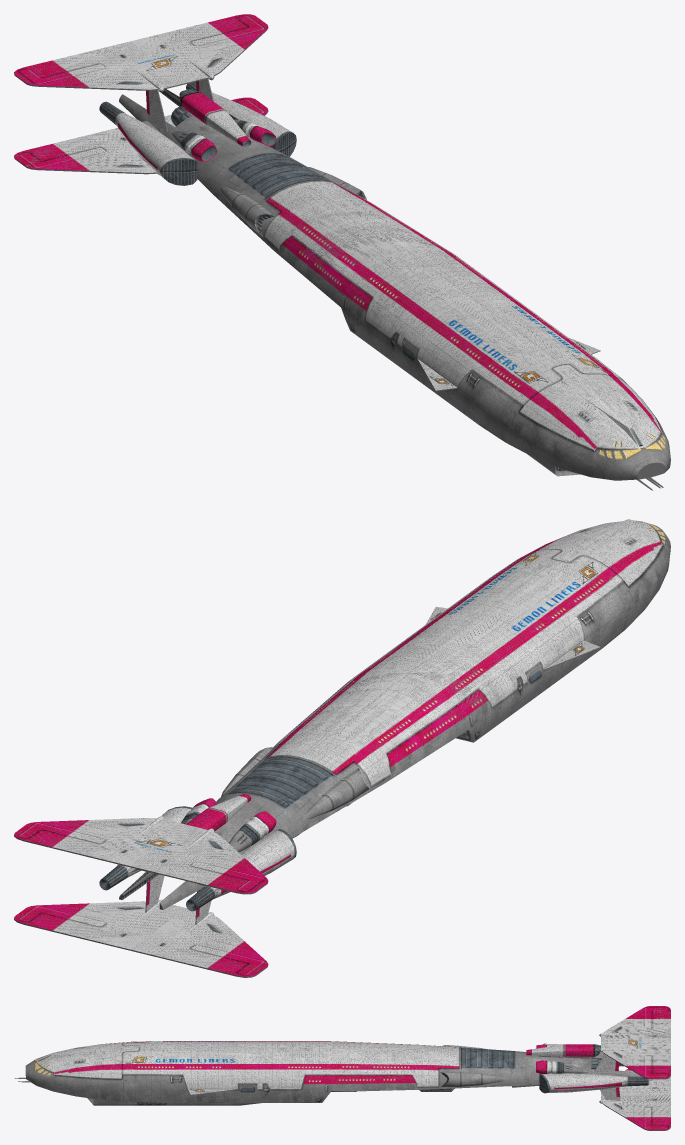
Rendered from Colonial Liner-Gemon Liners.dae.
The picture shows the model from 3 angles, top to bottom: view 1: azimuth 30°, elevation 25°; view 2: azimuth 150°, elevation 25°; view 3: azimuth 270°, elevation 25°; orthographic projection. The views are drawn at different scales.
Parts seen in each view (by area): view 1: colline1co_1 (×9); view 2: colline1co_1 (×8); view 3: colline1co_1 (×10).
Boxes of the visible parts, bbox=[...] form: colline1co_1 (×9): bbox=[14, 14, 670, 480]; colline1co_1 (×8): bbox=[14, 520, 670, 976]; colline1co_1 (×10): bbox=[25, 1006, 670, 1130].
Size of the model in its own units: 2653 by 10136 by 942.
